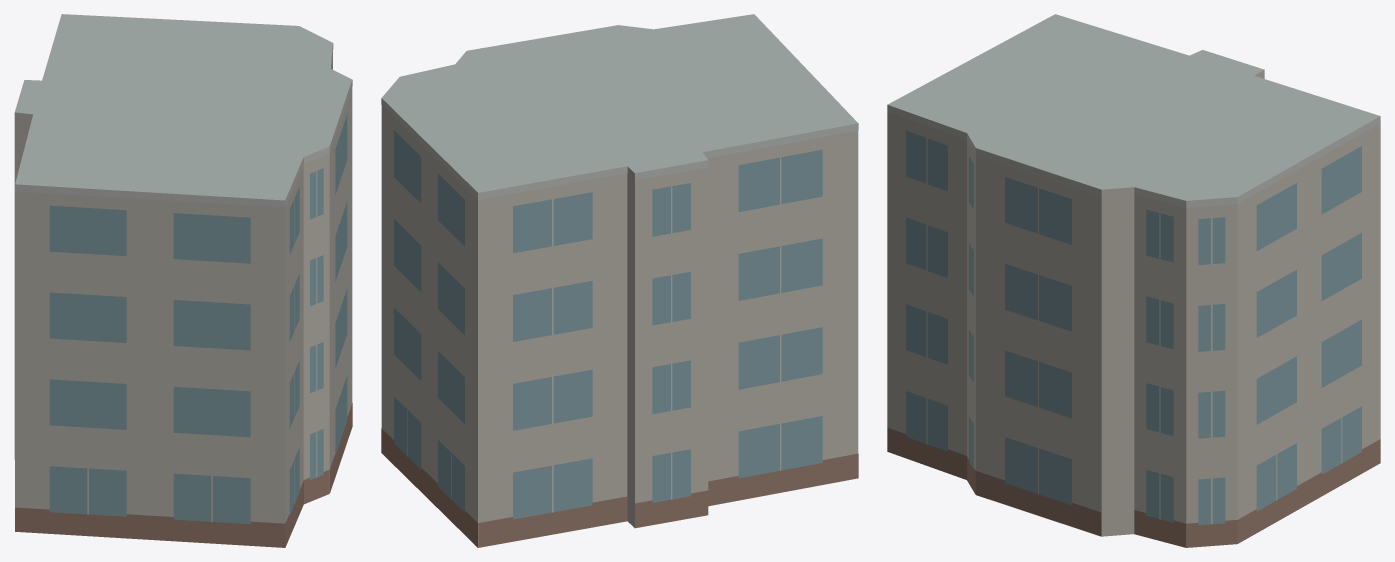
Rendered from survey-upis-32712349.glb.
3 views of the same model, side by side, from view 1: azimuth 30°, elevation 25°; view 2: azimuth 150°, elevation 25°; view 3: azimuth 270°, elevation 25° (orthographic). The views are drawn at different scales.
Parts seen in each view (by area): view 1: survey-upis-32712349.tmp; view 2: survey-upis-32712349.tmp; view 3: survey-upis-32712349.tmp.
Part boxes in pixels (x1,y1,x2,y2): survey-upis-32712349.tmp: (14,14,352,547); survey-upis-32712349.tmp: (381,14,858,547); survey-upis-32712349.tmp: (887,14,1380,547).
Bounding box in the file's own units: 14.1 × 12.2 × 15.73.
